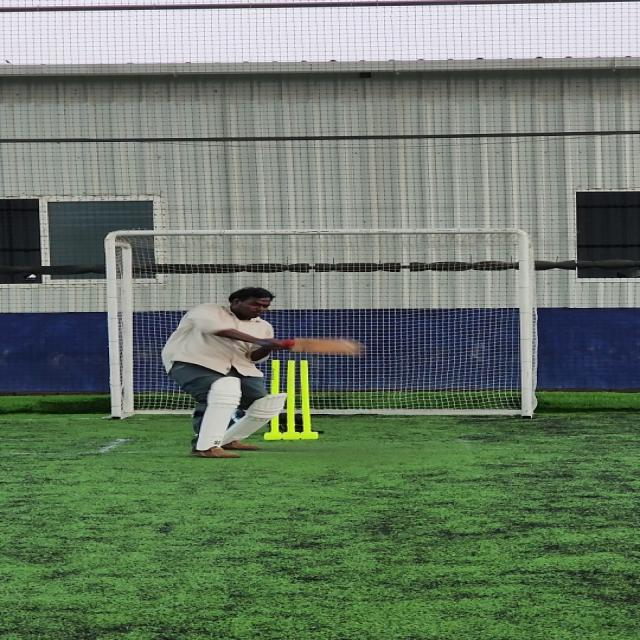ball: (276, 337, 299, 350)
stump: (264, 356, 316, 442)
